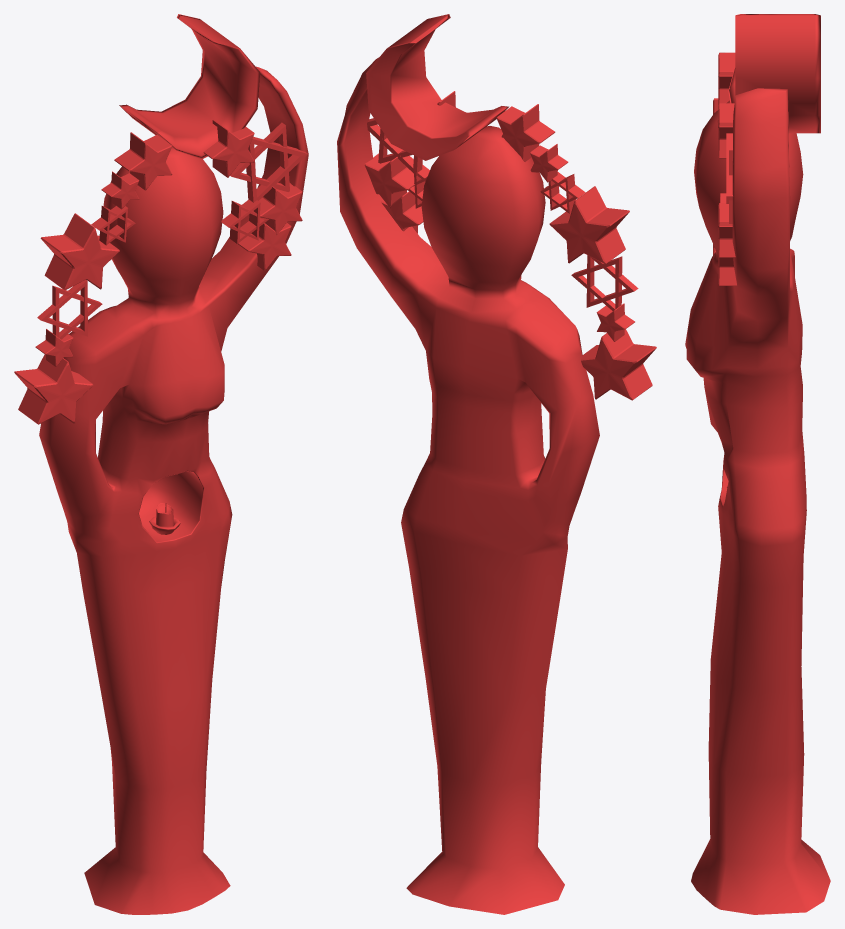
File: Pagan_CandleHolder_Statue_FBX.fbx
3 renders of one model, left to right at view 1: azimuth 30°, elevation 25°; view 2: azimuth 150°, elevation 25°; view 3: azimuth 270°, elevation 25°, orthographic. The views are drawn at different scales.
Visible parts, largest first — view 1: polySurface67; view 2: polySurface67; view 3: polySurface67.
Part boxes in pixels (left/top/right/bottom): polySurface67: left=14, top=14, right=308, bottom=914; polySurface67: left=337, top=14, right=656, bottom=914; polySurface67: left=685, top=14, right=830, bottom=914.
Bounding box in the file's own units: 90.28 × 250 × 37.
